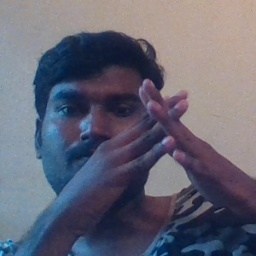W: (101, 68, 235, 201)
